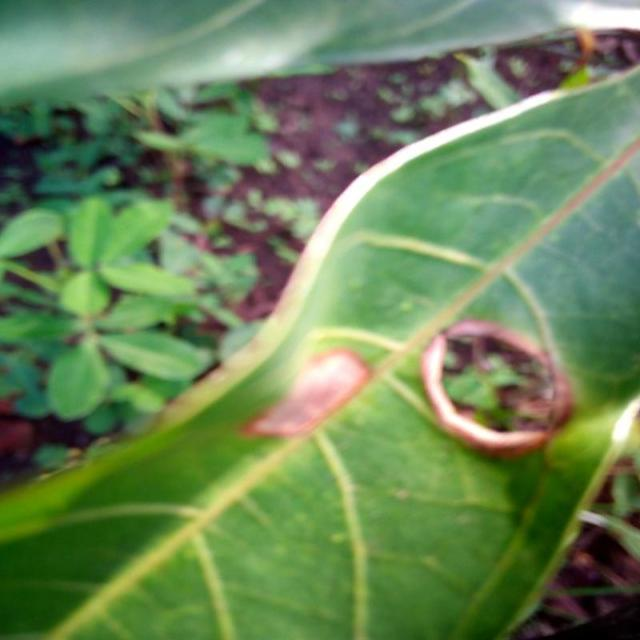cassava leaf: (0, 40, 639, 639)
